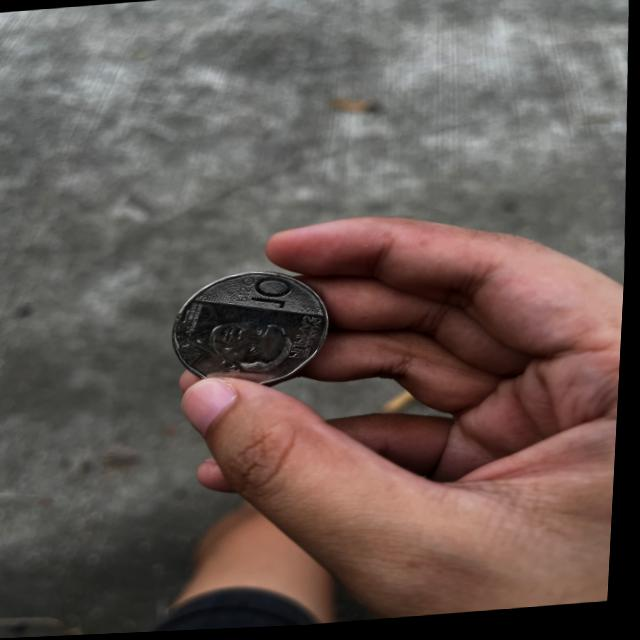10_New_Front: (232, 273, 293, 314)
